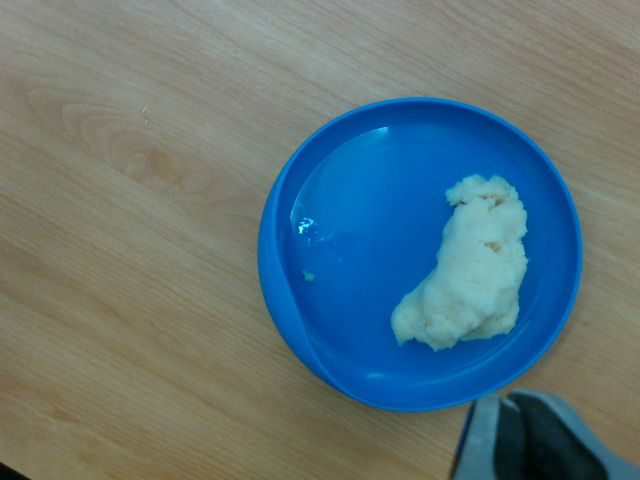mashed_potato: (391, 176, 528, 352)
